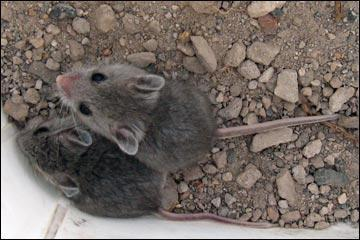rat: (57, 63, 339, 172), (16, 117, 274, 228)
